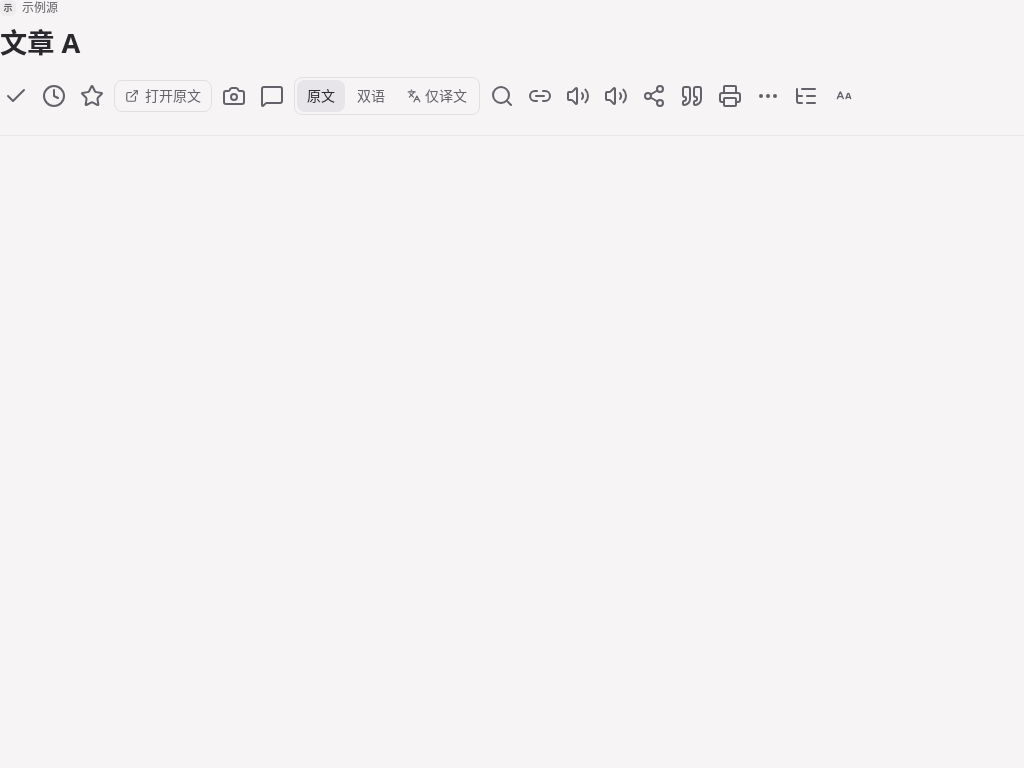
Test case: P07 — 自定义工具栏对话框 › 打开：桌面 Tab 列出全部动作；锁定动作开关禁用 + 不可移除标记；边界上下移禁用
The width and height of the screenshot is (1024, 768).
Click the button named "更多操作" at (768, 96), box [752,80,784,112]
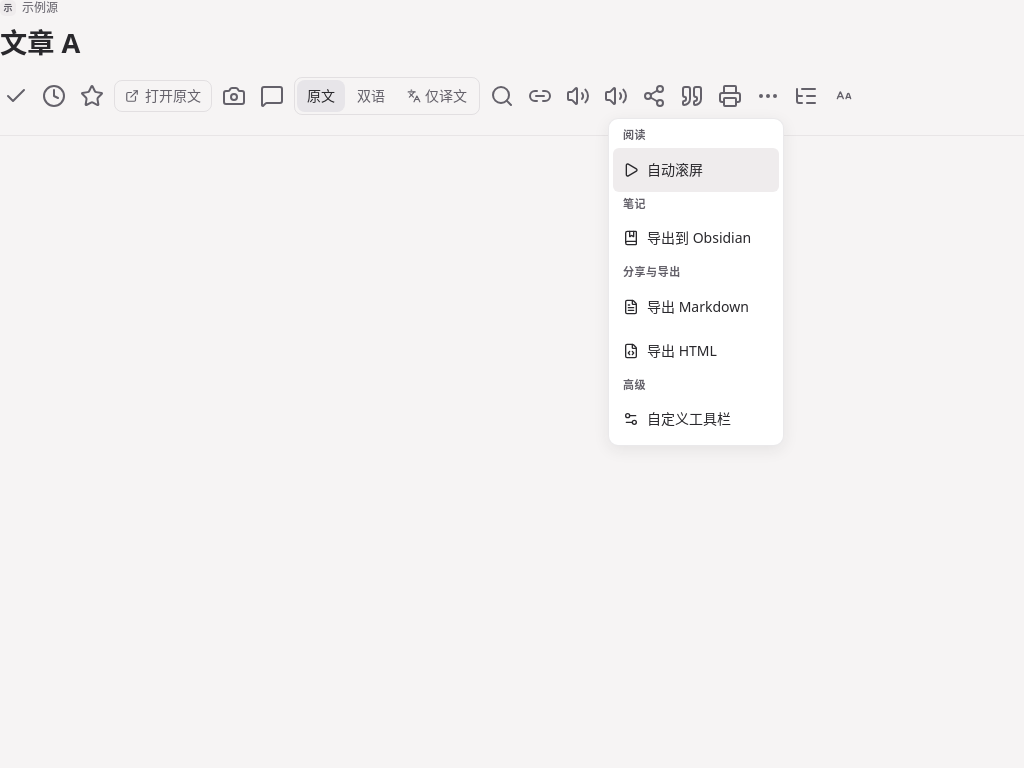
Click the menu item "自定义工具栏" at (677, 418), box [623,409,731,428]
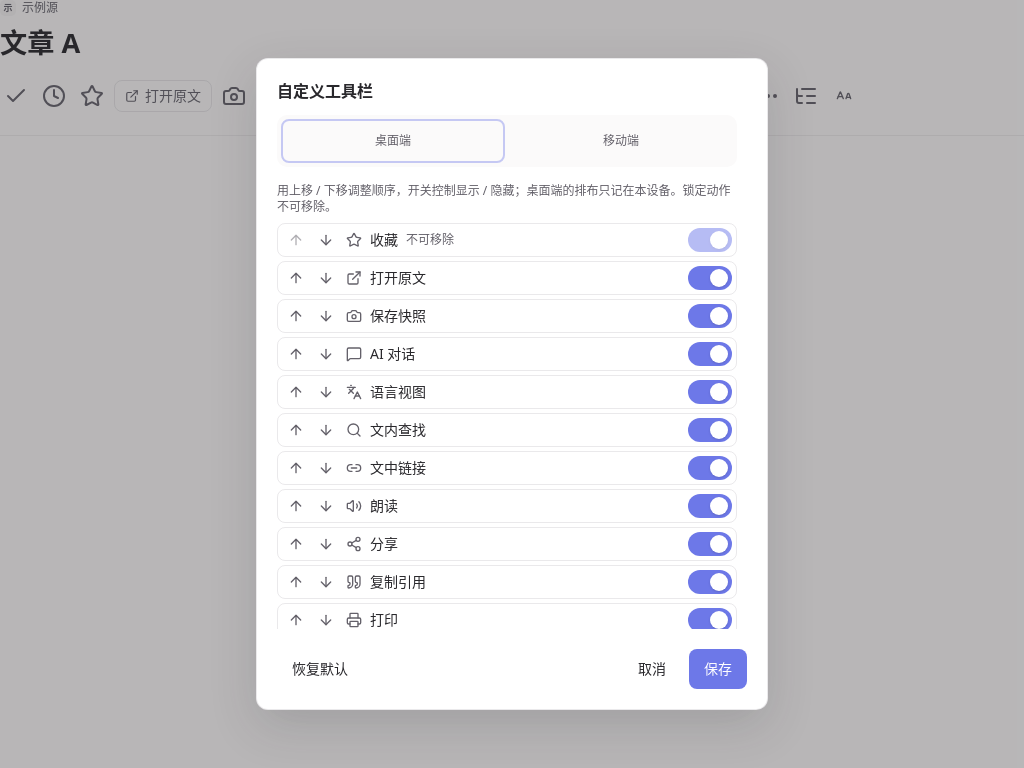
Result: the text "不可移除" is shown 2 times
Result: the button named "上移收藏" is disabled at [282,226,310,254]
Result: the button named "上移朗读" is enabled at [282,492,310,520]
